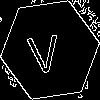V: (25, 25, 62, 75)
